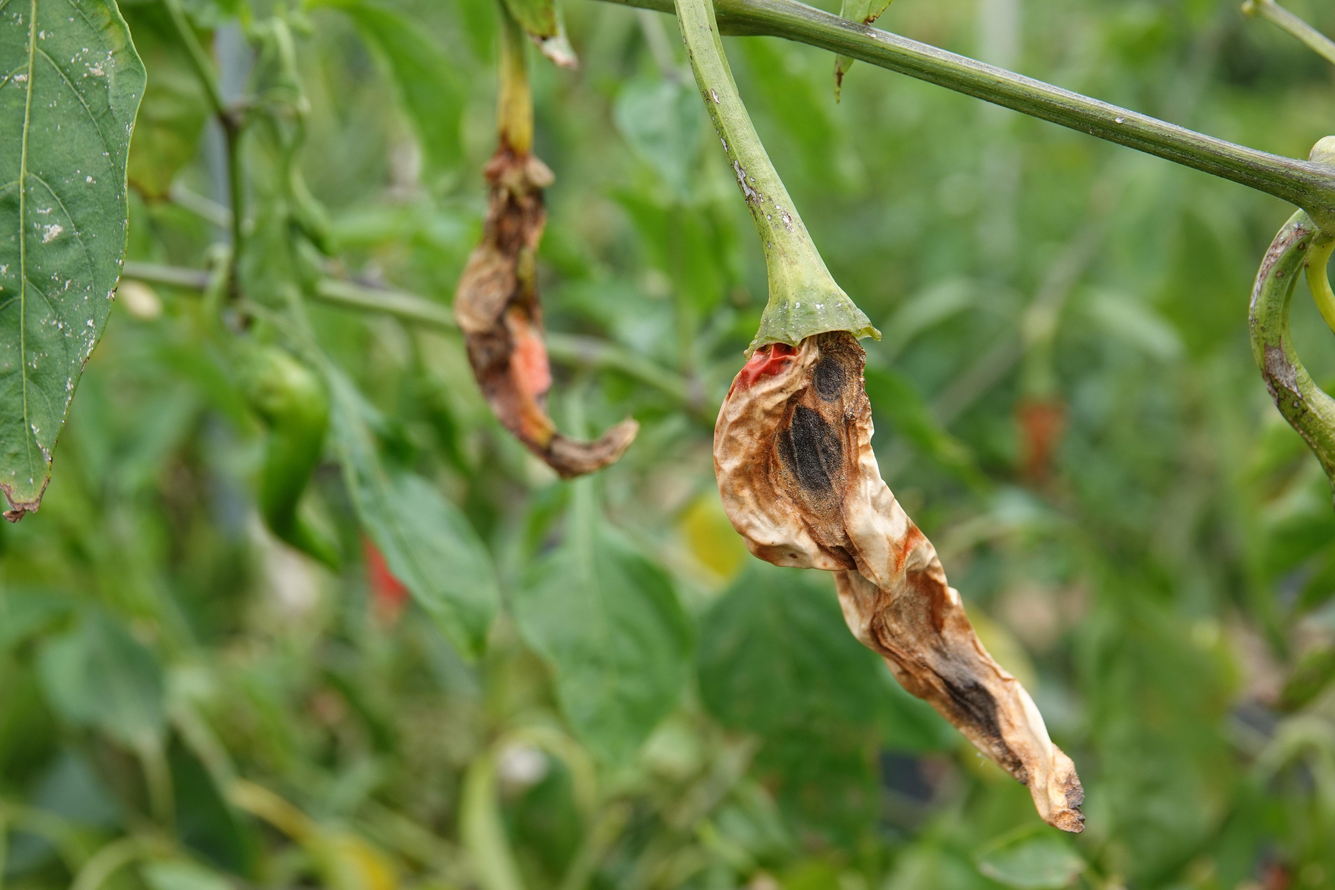Busuk Buah Antraknosa: (710, 252, 1099, 839), (449, 133, 639, 479)
